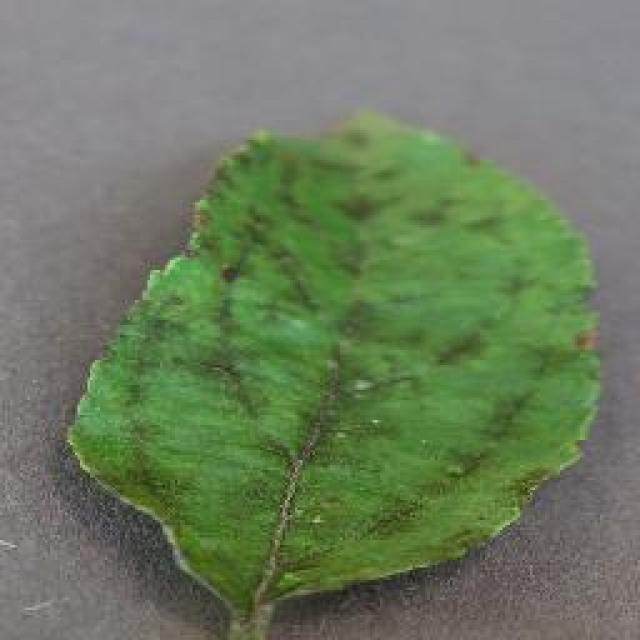apple scab disease: (62, 105, 602, 637)
